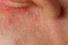plaque psoriasis: (0, 4, 29, 18), (12, 37, 22, 45)
